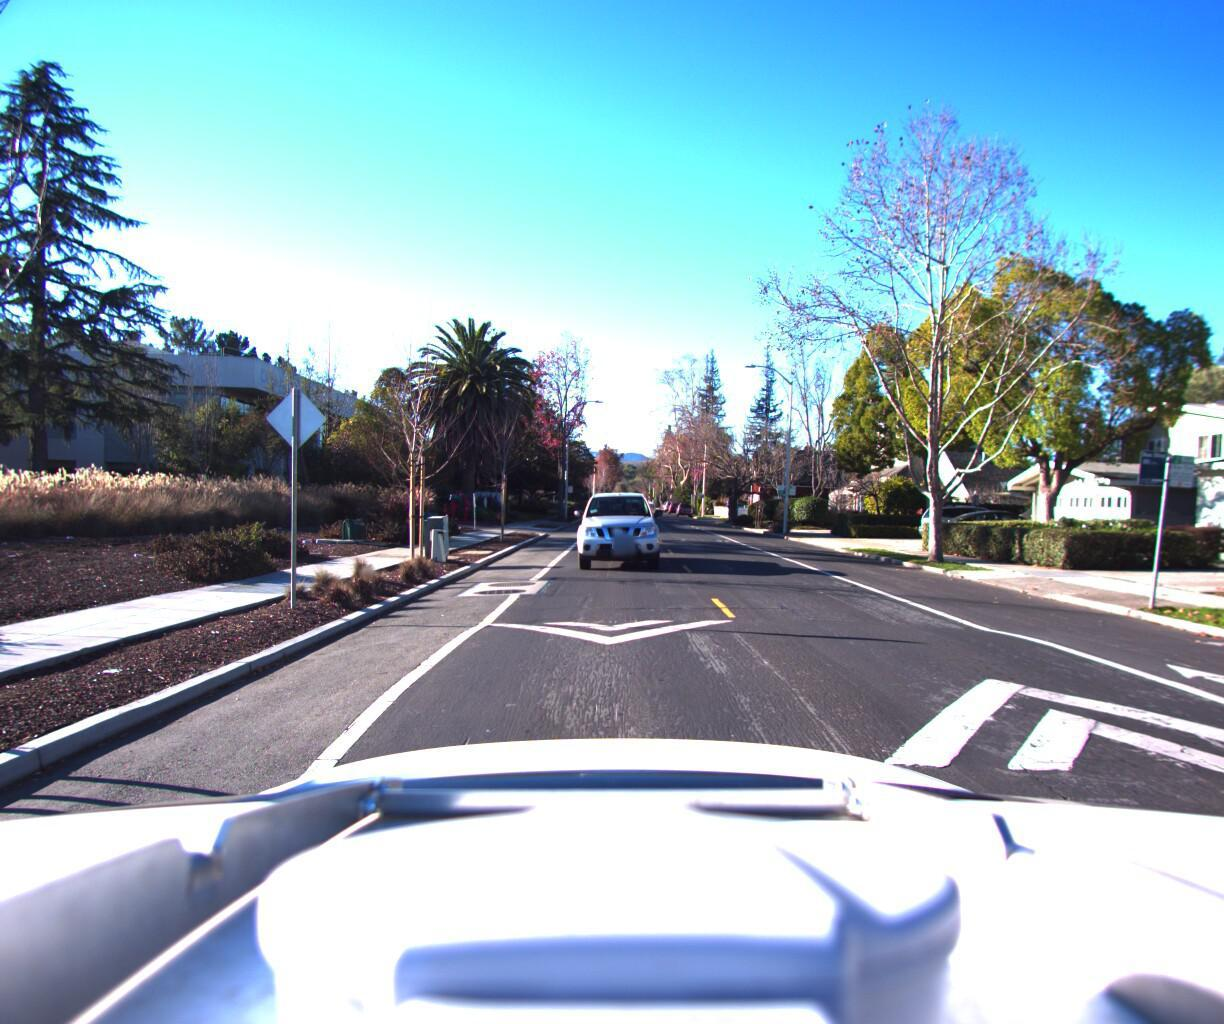car: (575, 487, 668, 580), (913, 507, 1030, 551)
